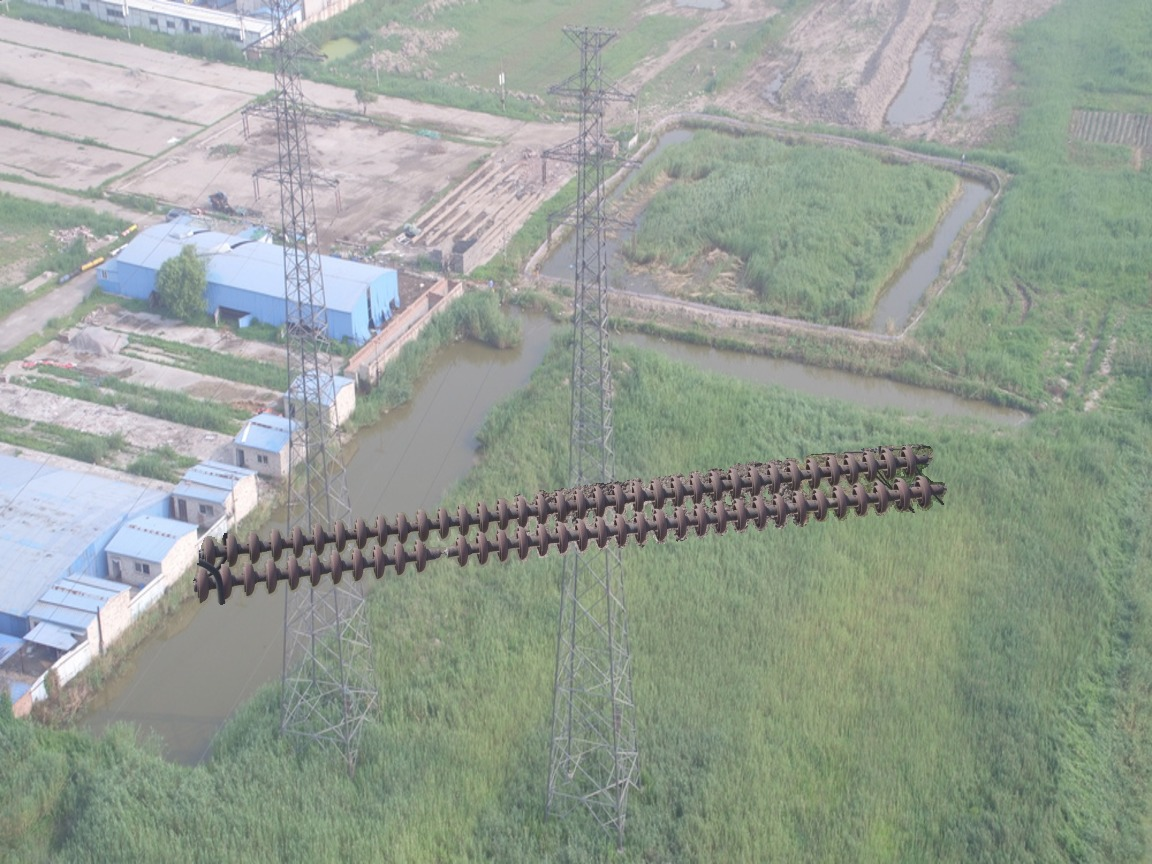defect: (405, 535, 478, 574)
